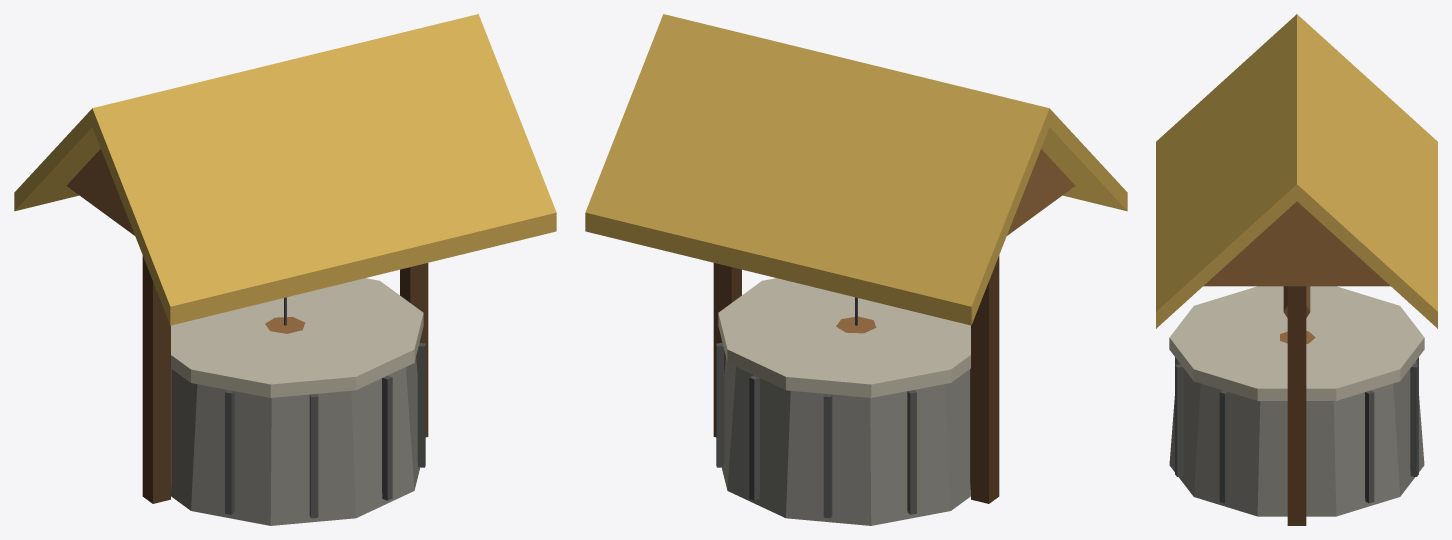
The model's file is well_1.glb.
3 renders of one model, left to right at view 1: azimuth 30°, elevation 25°; view 2: azimuth 150°, elevation 25°; view 3: azimuth 270°, elevation 25°, orthographic. The views are drawn at different scales.
Parts seen in each view (by area): view 1: well_1; view 2: well_1; view 3: well_1.
Boxes of the visible parts, box(x1,y1,x2,y2) form: well_1: box(14, 14, 556, 525); well_1: box(585, 14, 1127, 525); well_1: box(1156, 14, 1437, 525).
Size of what is drawn, in the model's own units: 3 by 3.01 by 2.1.
